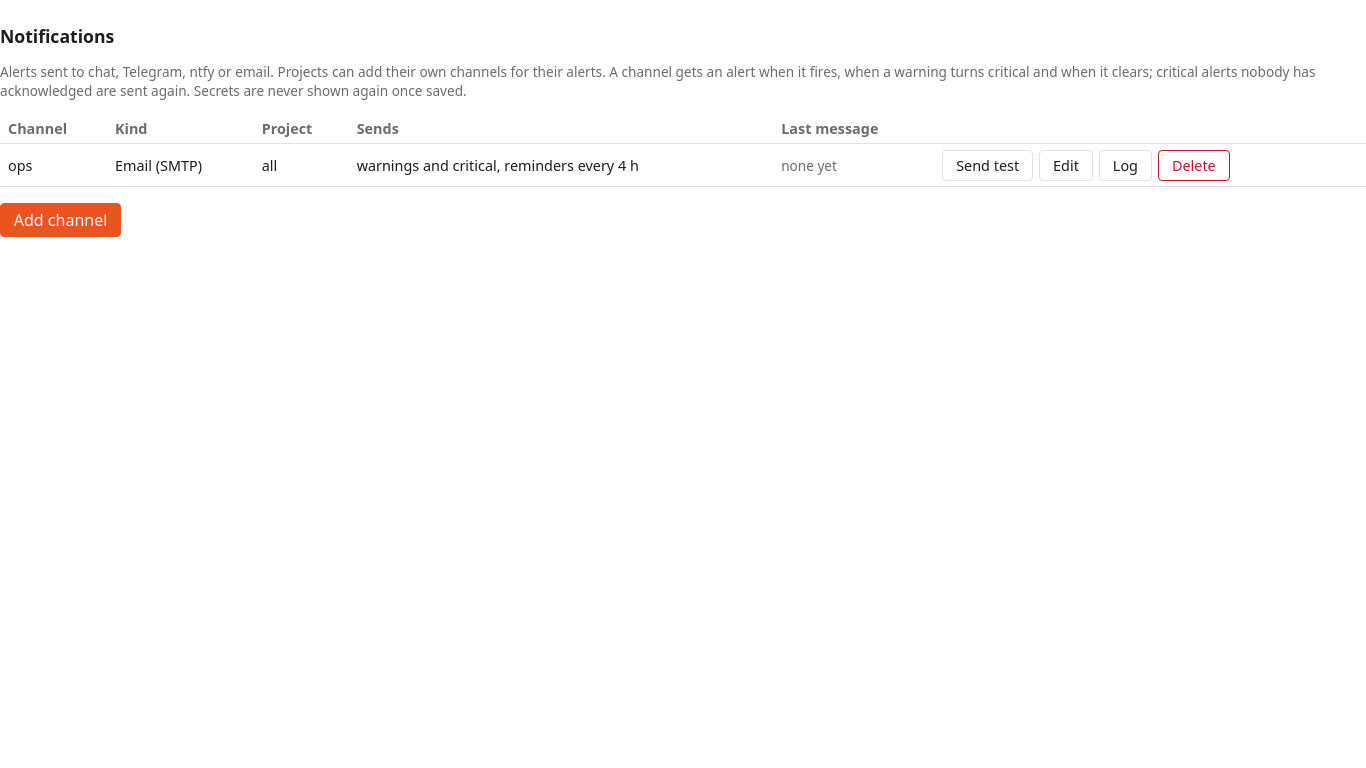
Notifications (D94) › keeps the password field of an email channel saved before sign-ins existed
Click the button "Edit". click: (1066, 165)
box: [1039, 150, 1093, 181]
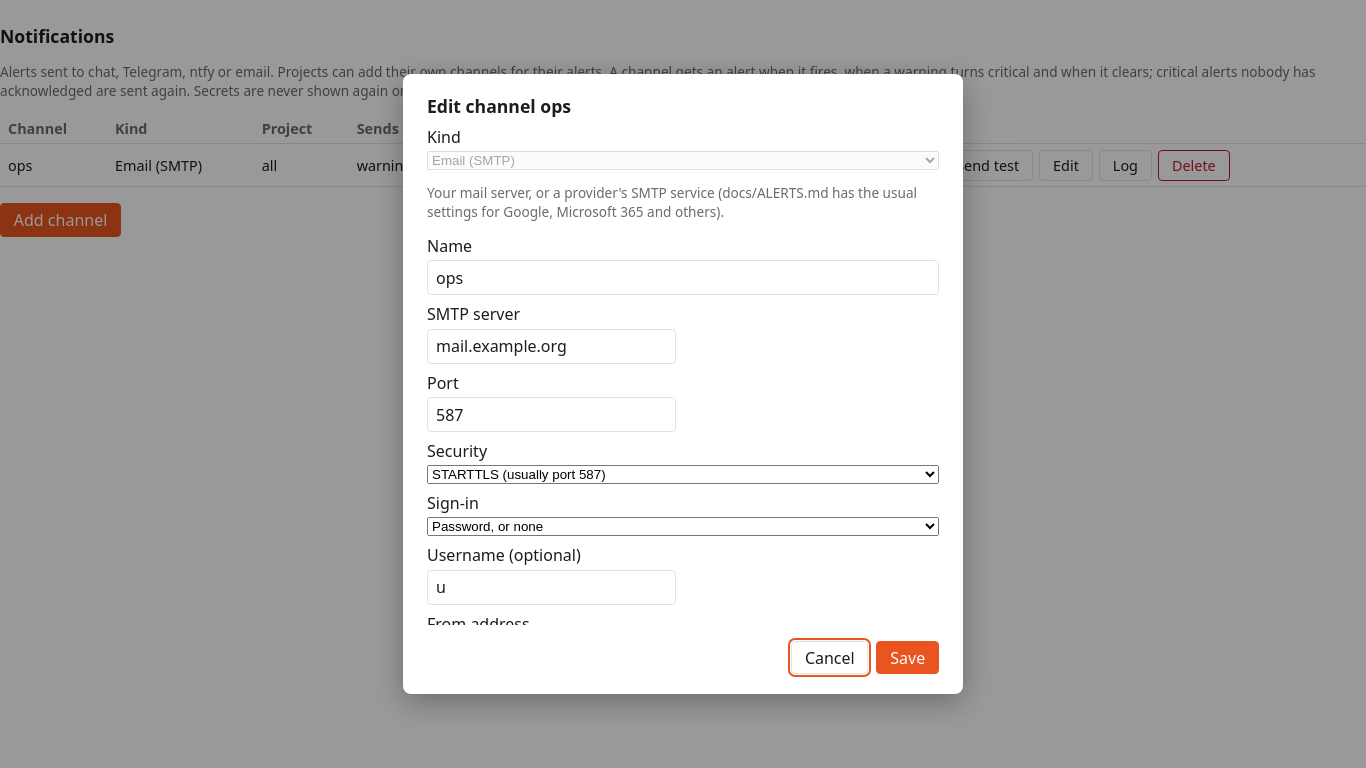
Expected: the dropdown labelled "Sign-in" shows "Password, or none", [427, 518, 939, 536]
